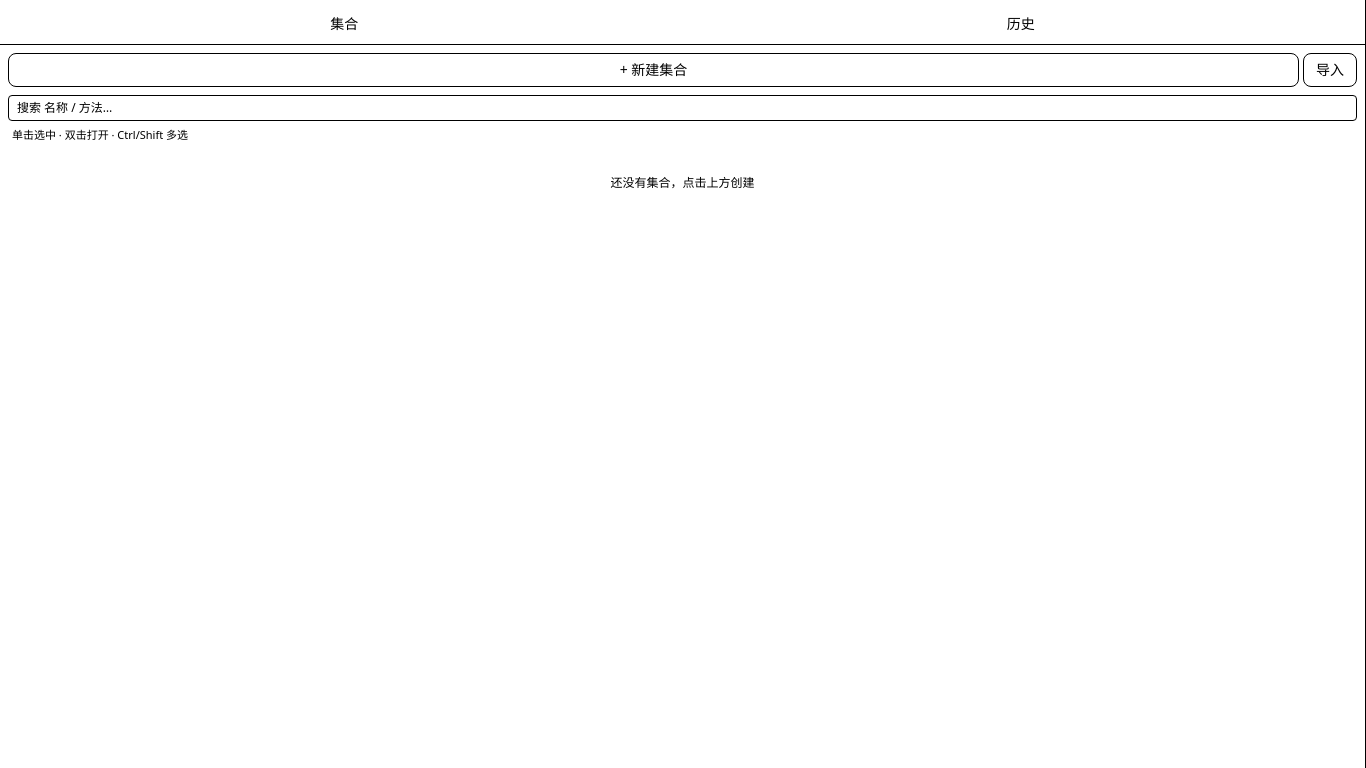
Test case: HistoryList virtualized viewport › keeps the LoadMoreTrigger footer inside the virtual scroller
The width and height of the screenshot is (1366, 768).
Click the button "历史" at (1021,24), box [684,8,1357,40]
(page scrolled)
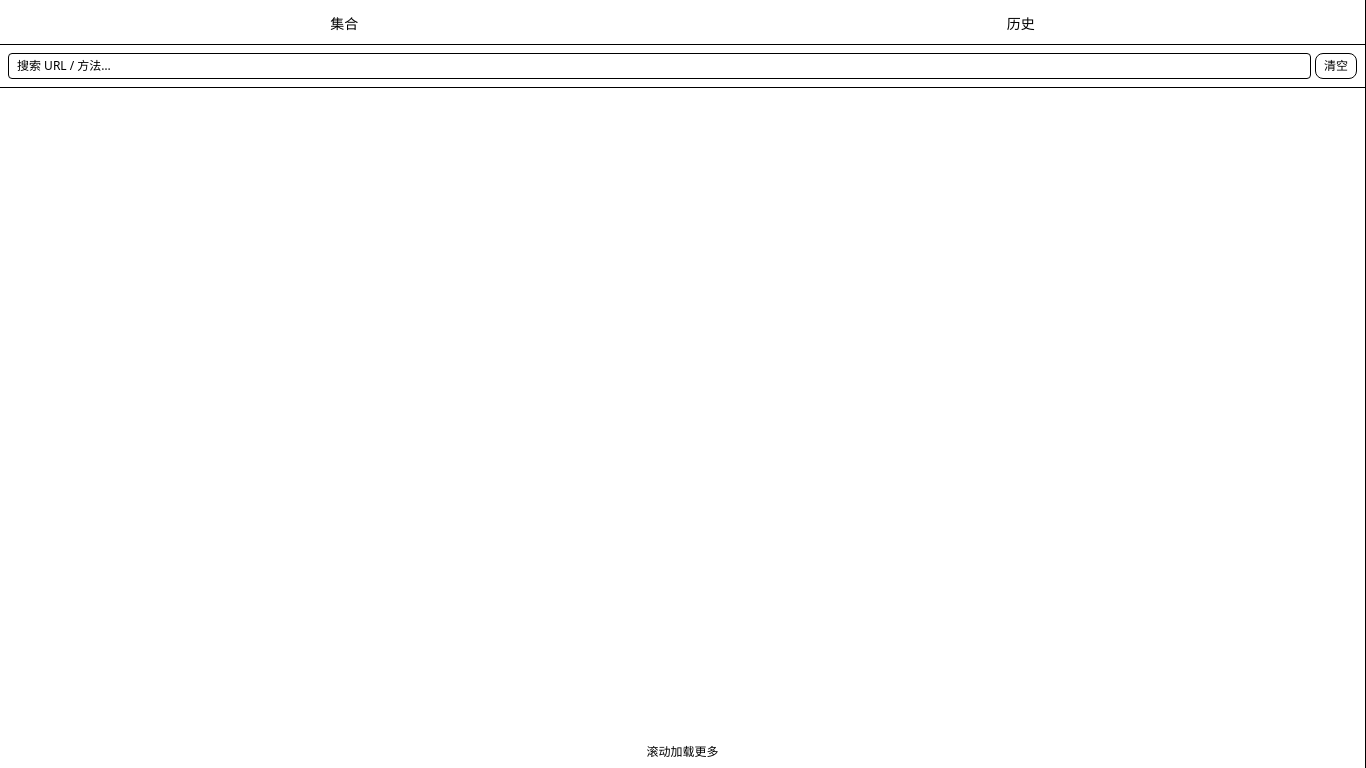
Check: the text "滚动加载更多" is shown, box [646,743,718,760]
